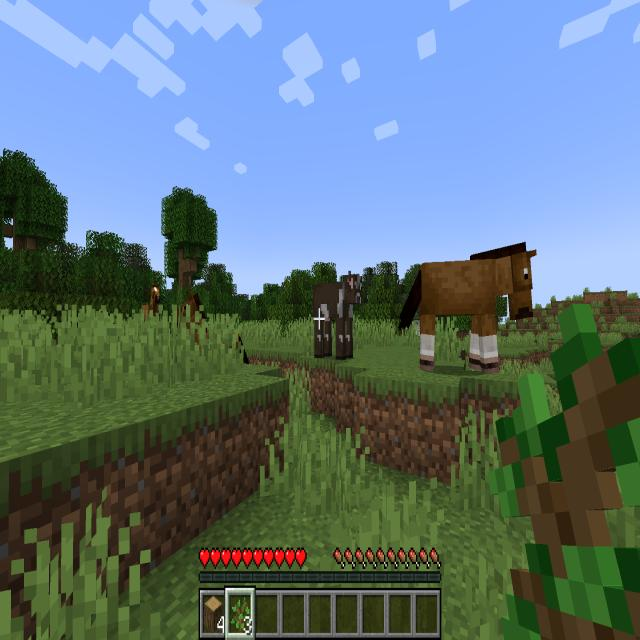cow: (310, 266, 368, 366)
